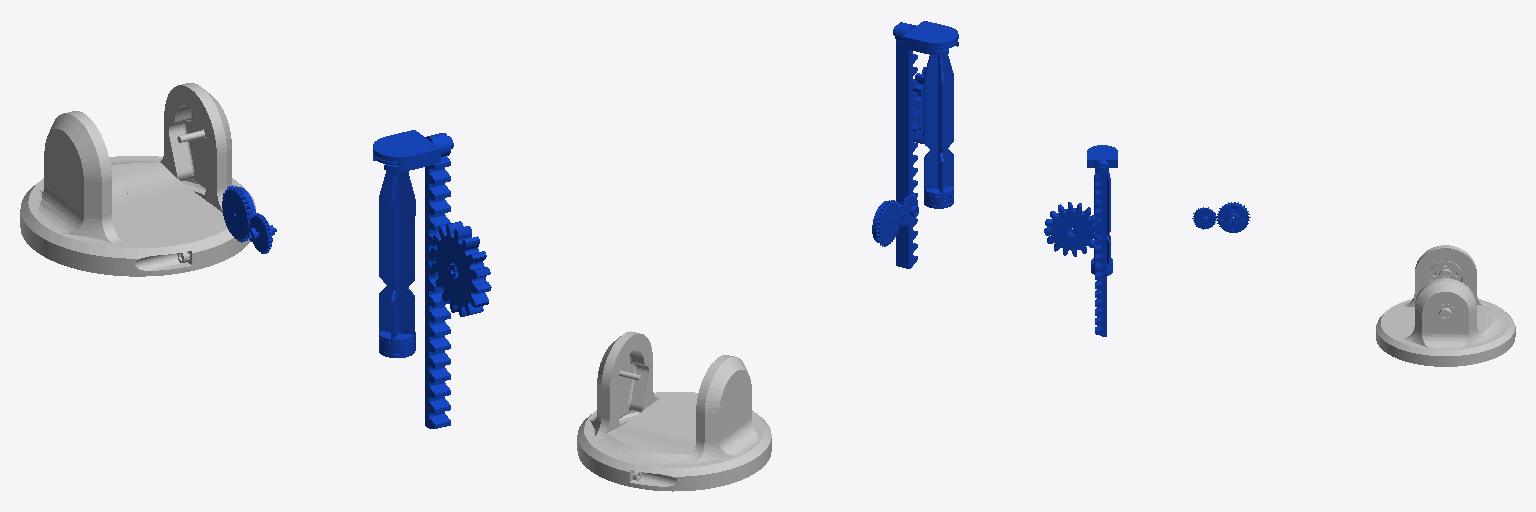
URDF robot description (my_robot):
<?xml version="1.0"?>
<robot name="my_robot">

  <material name="silver">
    <color rgba="0.8 0.8 0.8 1"/>
  </material>
  <material name="blue">
    <color rgba="0.1 0.3 0.8 1"/>
  </material>


<link name="base_link">
    <visual>
      <origin xyz="0 0 0"/>
      <geometry>
        <mesh filename="package://janusseraphim_description/meshes/janusseraphim_100/visual/base_link.dae"/>
      </geometry>
      </visual>
  </link>

  <link name="rotator_link">
    <visual>
      <origin xyz="0 0 0"/>
      <geometry>
        <mesh filename="package://janusseraphim_description/meshes/janusseraphim_100/visual/rotator_link.dae"/>
      </geometry>
      <material name="silver"/>
    </visual>
  </link>

  <link name="shoulder_link">
    <visual>
      <origin xyz="0 0 0"/>
      <geometry>
        <mesh filename="package://janusseraphim_description/meshes/janusseraphim_100/visual/shoulder_link.dae"/>
      </geometry>

      <material name="blue"/>
    </visual>
  </link>


  <link name="elbow_link">
    <visual>
      <origin xyz="0 0 0"/>
      <geometry>
        <mesh filename="package://janusseraphim_description/meshes/janusseraphim_100/visual/elbow_link.dae"/>
      </geometry>

      <material name="silver"/>
    </visual>
  </link>

  <link name="elbow_servo_gear_link">
    <visual>
      <origin xyz="0 0 0"/>
      <geometry>
        <mesh filename="package://janusseraphim_description/meshes/janusseraphim_100/visual/elbow_servo_gear_link.dae"/>
      </geometry>

      <material name="blue"/>
    </visual>
  </link>

  <link name="elbow_gear_link">
    <visual>
      <origin xyz="0 0 0"/>
      <geometry>
        <mesh filename="package://janusseraphim_description/meshes/janusseraphim_100/visual/elbow_gear_link.dae"/>
      </geometry>

      <material name="blue"/>
    </visual>
  </link>

  <link name="wrist_link">
    <visual>
      <origin xyz="0 0 0"/>
      <geometry>
        <mesh filename="package://janusseraphim_description/meshes/janusseraphim_100/visual/wrist_link.dae"/>
      </geometry>

      <material name="blue"/>
    </visual>
  </link>

  <link name="ee_link">
    <visual>
      <origin xyz="0 0 0"/>
      <geometry>
        <mesh filename="package://janusseraphim_description/meshes/janusseraphim_100/visual/ee_link.dae"/>
      </geometry>

      <material name="blue"/>
    </visual>
  </link>

  <link name="syringe_slider_link">
    <visual>
      <origin xyz="0 0 0"/>
      <geometry>
        <mesh filename="package://janusseraphim_description/meshes/janusseraphim_100/visual/syringe_slider_link.dae"/>
      </geometry>

      <material name="blue"/>
    </visual>
  </link>

  <link name="ee_gear_link">
    <visual>
      <origin xyz="0 0 0"/>
      <geometry>
        <mesh filename="package://janusseraphim_description/meshes/janusseraphim_100/visual/ee_gear_link.dae"/>
      </geometry>

      <material name="blue"/>
    </visual>
  </link>





  <joint name="base_to_rotator_joint" type="revolute">
    <parent link="base_link"/>
    <child link="rotator_link"/>
    <origin xyz="0 0 0.04174" rpy="0 0 0"/>
    <axis xyz="0 0 1"/>
    <limit lower="-3.14" upper="3.14" effort="10" velocity="2"/>
  </joint>

  <joint name="rotator_to_shoulder_joint" type="revolute">
    <parent link="rotator_link"/>
    <child link="shoulder_link"/>
    <origin xyz="-0.02639 0 0.03282" rpy="0 0 1.5708"/>
    <axis xyz="0 1 0"/>
    <limit lower="0" upper="3.14" effort="10" velocity="2"/>
  </joint>

  <joint name="shoulder_to_elbow_joint" type="revolute">
    <parent link="shoulder_link"/>
    <child link="elbow_link"/>
    <origin xyz=" -0.09031 0.00367 0" rpy="0 0 0"/>
    <axis xyz="0 1 0"/>
    <limit lower="-3.14" upper="0" effort="8" velocity="2"/>
  </joint>

  <joint name="elbow_to_wrist_joint" type="revolute">
    <parent link="elbow_link"/>
    <child link="wrist_link"/>
    <origin xyz="-0.08258 -0.0745 0.03577" rpy="0 0 0"/>
    <axis xyz="0 1 0"/>
    <limit lower="-1.5708" upper="1.5708" effort="5" velocity="2"/>
  </joint>

  <joint name="elbow_to_elbow_servo_gear_joint" type="revolute">
    <parent link="elbow_link"/>
    <child link="elbow_servo_gear_link"/>
    <origin xyz="-0.04568 0.00241 0.03577" rpy="0 0 0"/>
    <axis xyz="0 1 0"/>
    <limit lower="-1.5708" upper="1.5708" effort="5" velocity="2"/>
  </joint>  

  <joint name="elbow_to_elbow_gear_joint" type="revolute">
    <parent link="elbow_link"/>
    <child link="elbow_gear_link"/>
    <origin xyz="-0.064 -0.00104 0.035" rpy="0 0 0"/>
    <axis xyz="0 -1 0"/>
    <limit lower="-1.5708" upper="1.5708" effort="5" velocity="2"/>
  </joint>  

  <joint name="wrist_to_ee_joint" type="revolute">
    <parent link="wrist_link"/>
    <child link="ee_link"/>
    <origin xyz="-0.02879 0.0543 0" rpy="0 0 0"/>
    <axis xyz="1 0 0"/>
    <limit lower="-1.5708" upper="1.5708" effort="5" velocity="2"/>
  </joint>

  <joint name="syringe_slider_joint" type="prismatic">
    <!-- 
      1. Changed 'type' from 'slider' to 'prismatic', which is the standard 
         URDF term for linear (sliding) motion.
    -->
    <parent link="ee_link"/>
    <child link="syringe_slider_link"/>
    <origin xyz="-0.01540 -0.01705 -0.02829" rpy="0 0 0"/>
    <!-- 
      2. Changed 'axis' to "0 0 1" to define linear motion along the Z-axis.
         (1 0 0 is X-axis, 0 1 0 is Y-axis).
    -->
    <axis xyz="0 0 1"/>
    <limit
      lower="-0.05" 
      upper="0.05" 
      effort="5"
      velocity="2"/>
    <dynamics damping="0.5" friction="0.1"/>
  </joint>

  <joint name="ee_gear_joint" type="revolute">
    <parent link="ee_link"/>
    <child link="ee_gear_link"/>
    <origin xyz="-0.03735 -0.00908 0.00943" rpy="0 0 0"/>
    <axis xyz="0 -1 0"/>
    <limit lower="-1.5708" upper="1.5708" effort="5" velocity="2"/>
  </joint>

</robot>

--- Facts derived from the render (not from the file) ---
3 views of the same robot in one strip: view 1: azimuth 30°, elevation 25°; view 2: azimuth 150°, elevation 25°; view 3: azimuth 270°, elevation 25° (orthographic).
Model my_robot with 10 links and 9 joints (8 revolute, 1 prismatic), rooted at base_link, posed every joint at zero.
Visible links, largest first — view 1: rotator_link, syringe_slider_link, ee_gear_link, elbow_servo_gear_link, elbow_gear_link; view 2: rotator_link, syringe_slider_link, elbow_servo_gear_link, ee_gear_link; view 3: rotator_link, syringe_slider_link, ee_gear_link, elbow_servo_gear_link.
Link boxes in pixels (x1,y1,x2,y2): rotator_link: [20, 83, 255, 276]; syringe_slider_link: [373, 130, 453, 428]; ee_gear_link: [431, 221, 491, 316]; elbow_servo_gear_link: [222, 185, 255, 242]; elbow_gear_link: [247, 213, 276, 253]; rotator_link: [577, 331, 771, 491]; syringe_slider_link: [893, 21, 958, 268]; elbow_servo_gear_link: [872, 200, 900, 246]; ee_gear_link: [913, 67, 925, 143]; rotator_link: [1376, 245, 1515, 366]; syringe_slider_link: [1087, 145, 1117, 336]; ee_gear_link: [1044, 202, 1100, 256]; elbow_servo_gear_link: [1216, 202, 1250, 232].
Size in the robot's own frame: 0.0894 by 0.302 by 0.1265 metres.
5 mesh visuals loaded from 10 distinct referenced files (5 Collada DAE); not drawn: 5 (reference not matched to a file when rendering).
